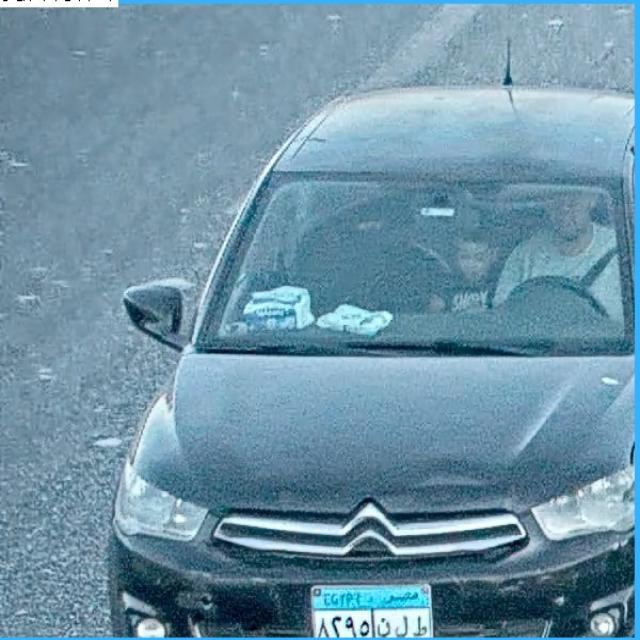windshield: (214, 178, 640, 352)
